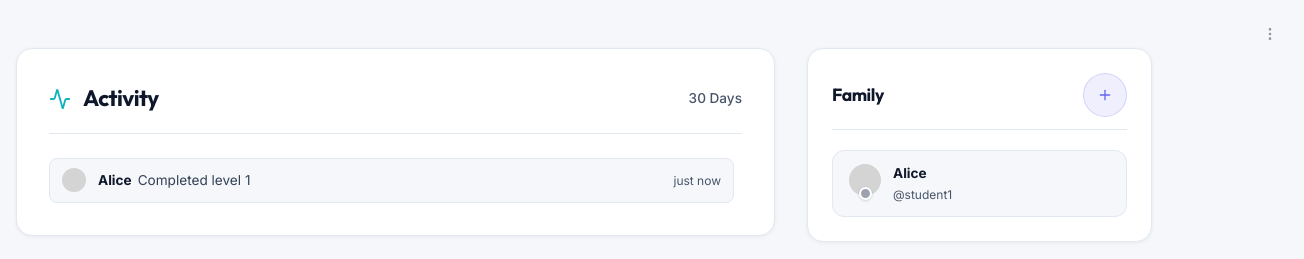
Test: ParentDashboard Component › opens dropdown and displays accessible Disconnect Student option
The image size is (1304, 259).
Click the button named "Options for Alice". click: (1270, 34)
box: [1248,12,1292,56]
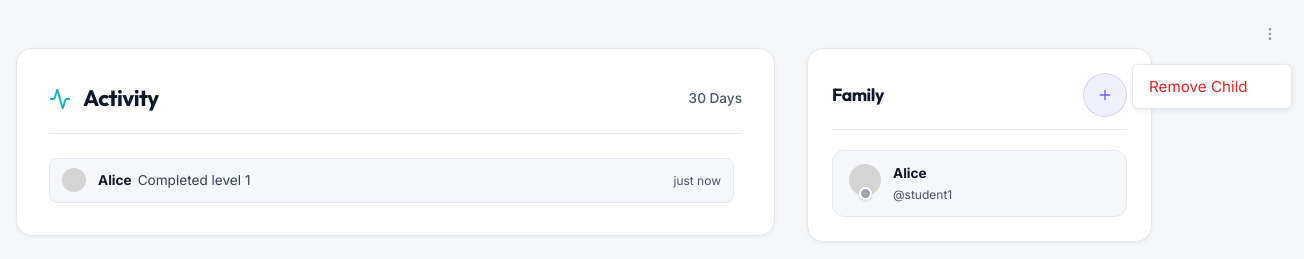
Now the button "Remove Child" is shown, box [1133,65,1291,108]
